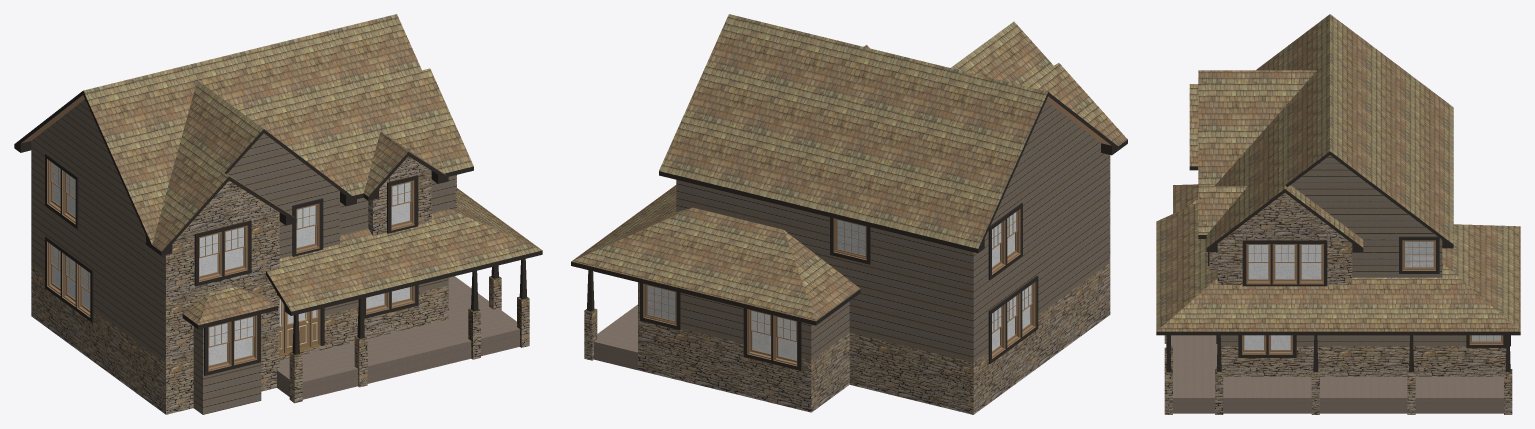
Rendered from house4.dae.
3 renders of one model, left to right at view 1: azimuth 30°, elevation 25°; view 2: azimuth 150°, elevation 25°; view 3: azimuth 270°, elevation 25°, orthographic. The views are drawn at different scales.
Visible parts, largest first — view 1: Model, Double_3050_Window_w_trim (×3); view 2: Model, Double_3050_Window_w_trim (×2), _48_x48__Window1, _48_x48__Window4; view 3: Model, Triple_Window, _48_x48__Window3, Double_3050_Window_w_trim, Upper_sash6, Upper_sash7, Lower_sash6, Lower_sash7, Lower_sash5, Upper_sash5, Lower_sash1, Lower_sash2 (+1 smaller).
Part boxes in pixels (x1=…): Model: x1=14, y1=14, x2=542, y2=414; Double_3050_Window_w_trim (×3): x1=45, y1=153, x2=260, y2=375; Model: x1=571, y1=14, x2=1127, y2=414; Double_3050_Window_w_trim (×2): x1=743, y1=203, x2=1022, y2=370; _48_x48__Window1: x1=643, y1=283, x2=676, y2=325; _48_x48__Window4: x1=833, y1=218, x2=866, y2=260; Model: x1=1156, y1=14, x2=1520, y2=414; Triple_Window: x1=1242, y1=240, x2=1327, y2=286; _48_x48__Window3: x1=1402, y1=240, x2=1435, y2=270; Double_3050_Window_w_trim: x1=1238, y1=335, x2=1296, y2=357; Upper_sash6: x1=1300, y1=244, x2=1322, y2=262; Upper_sash7: x1=1247, y1=244, x2=1269, y2=262; Lower_sash6: x1=1300, y1=263, x2=1322, y2=281; Lower_sash7: x1=1247, y1=263, x2=1269, y2=281; Lower_sash5: x1=1274, y1=263, x2=1295, y2=281; Upper_sash5: x1=1274, y1=244, x2=1295, y2=262; Lower_sash1: x1=1270, y1=335, x2=1291, y2=351; Lower_sash2: x1=1243, y1=335, x2=1264, y2=351.
Bounding box in the file's own units: 536 × 521 × 388.
